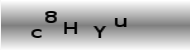8: (43, 10, 57, 23)
H: (62, 20, 78, 35)
Y: (92, 24, 107, 39)
c: (30, 28, 42, 39)
u: (114, 17, 128, 28)
